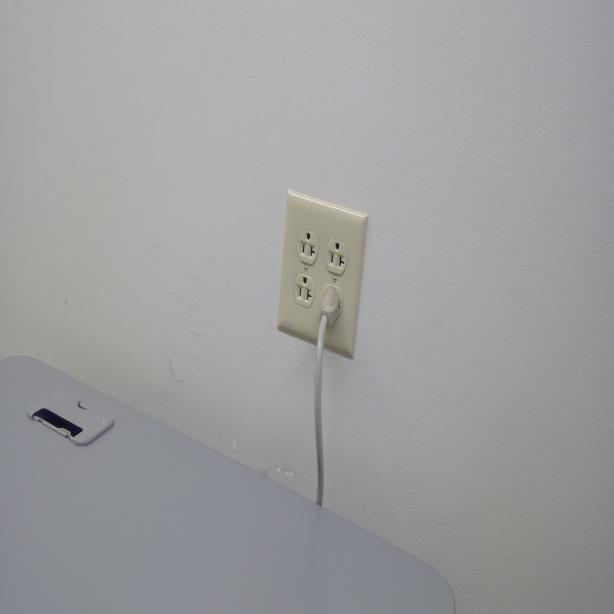typeb: (298, 224, 318, 263), (327, 237, 346, 272), (294, 272, 314, 302)
